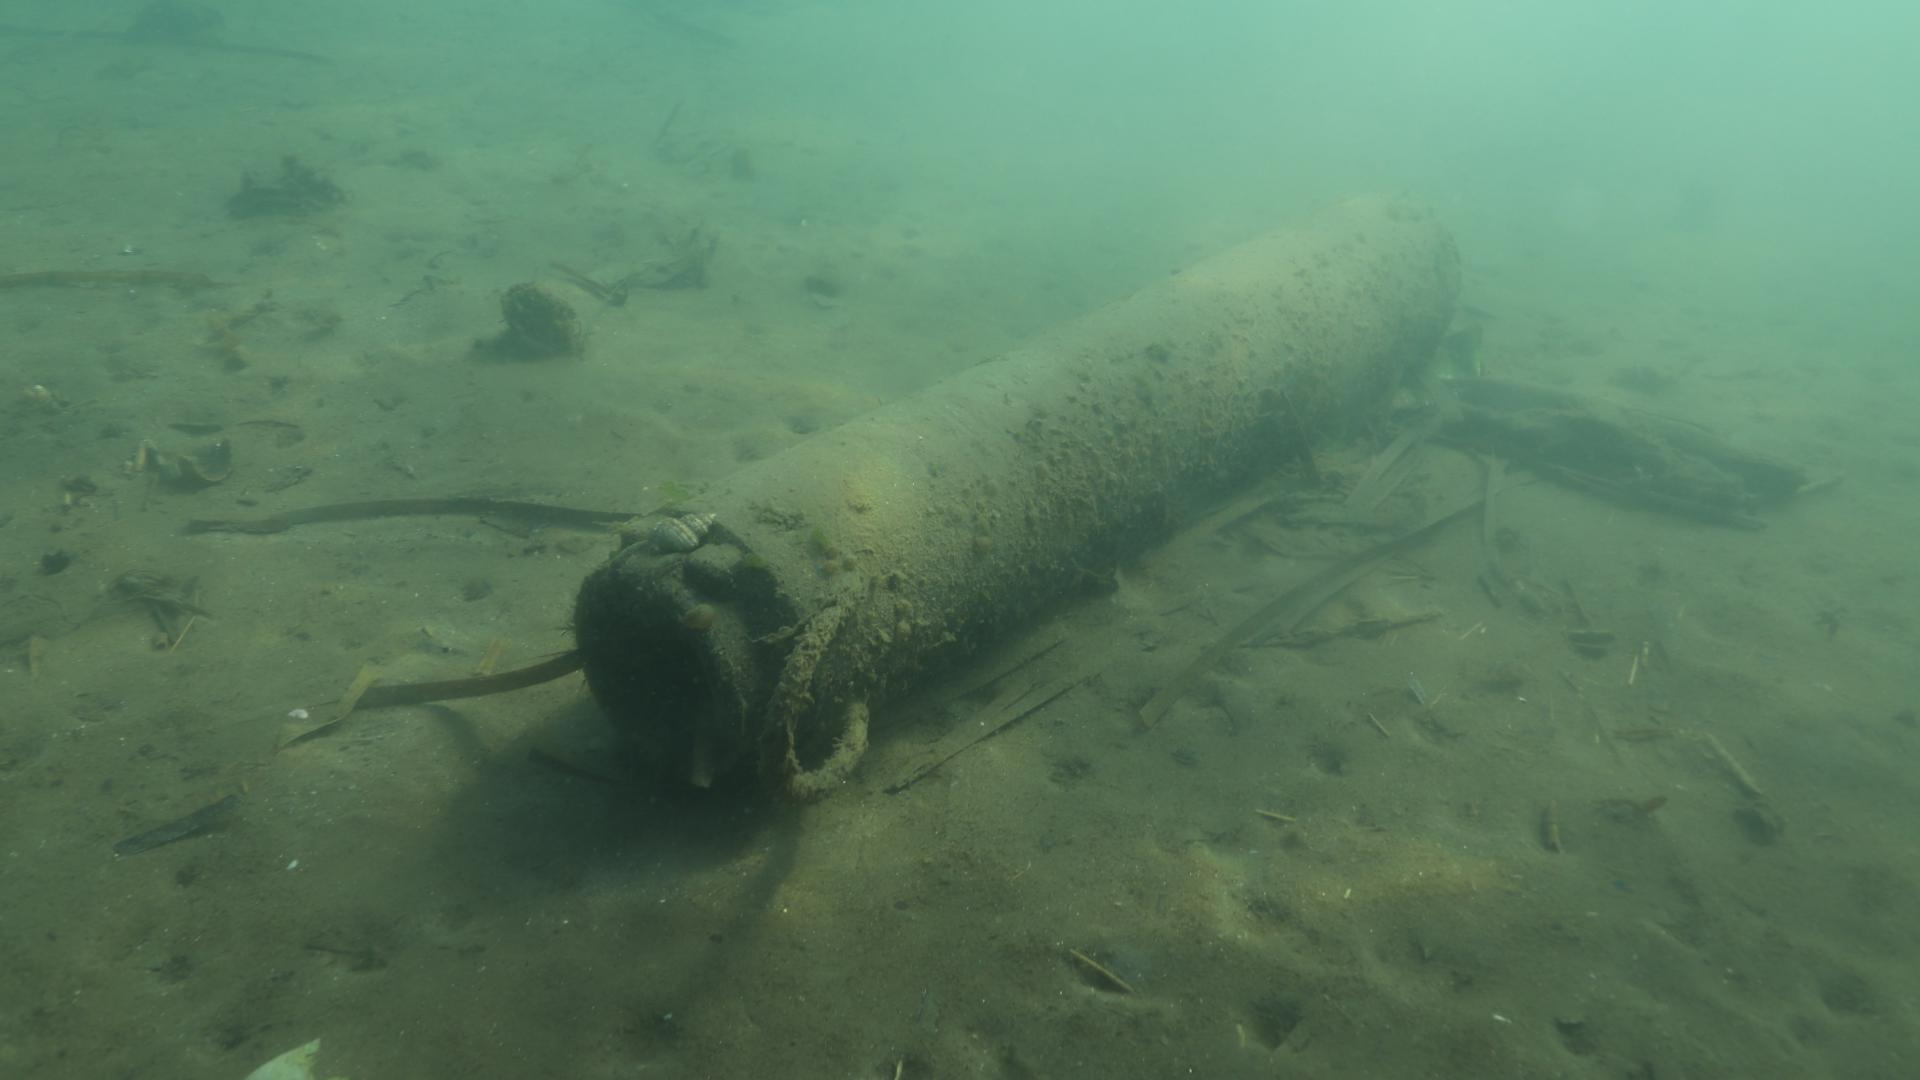eel fish trap: (568, 187, 1458, 794)
rope: (754, 595, 880, 798)
